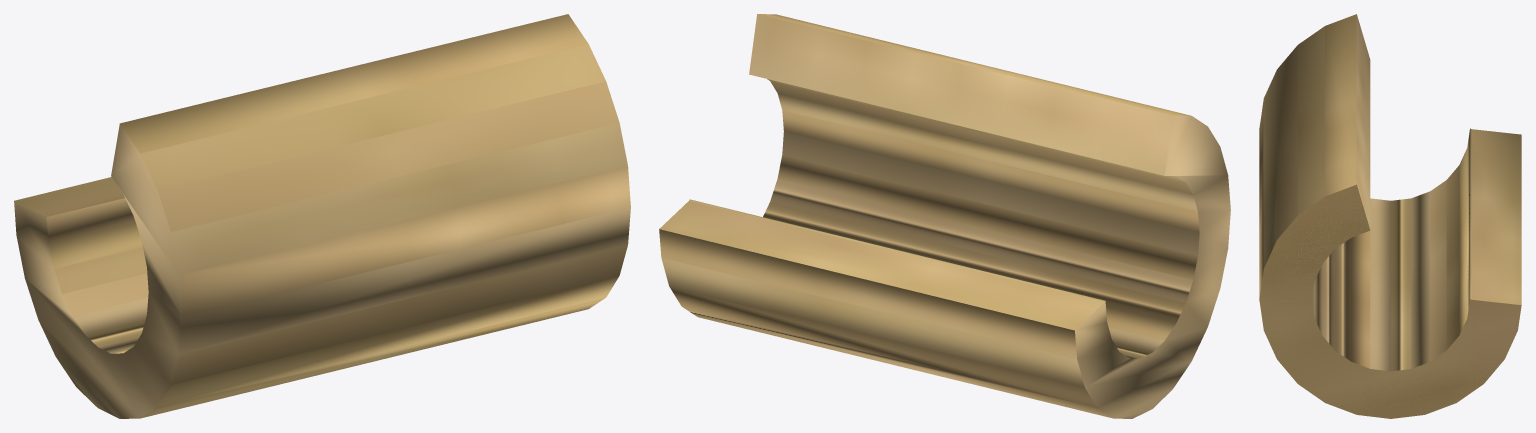
Rendered from original-20.obj.
3 views of the same model, side by side, from view 1: azimuth 30°, elevation 25°; view 2: azimuth 150°, elevation 25°; view 3: azimuth 270°, elevation 25° (orthographic). The views are drawn at different scales.
Visible parts, largest first — view 1: Group9/mesh9/mesh9-geometry#mesh9-geometry; view 2: Group9/mesh9/mesh9-geometry#mesh9-geometry; view 3: Group9/mesh9/mesh9-geometry#mesh9-geometry.
Boxes of the visible parts, bbox=[...] form: Group9/mesh9/mesh9-geometry#mesh9-geometry: bbox=[14, 14, 630, 418]; Group9/mesh9/mesh9-geometry#mesh9-geometry: bbox=[659, 14, 1230, 418]; Group9/mesh9/mesh9-geometry#mesh9-geometry: bbox=[1259, 14, 1521, 418].
Bounding box in the file's own units: 0.0124 × 0.00796 × 0.00807.
